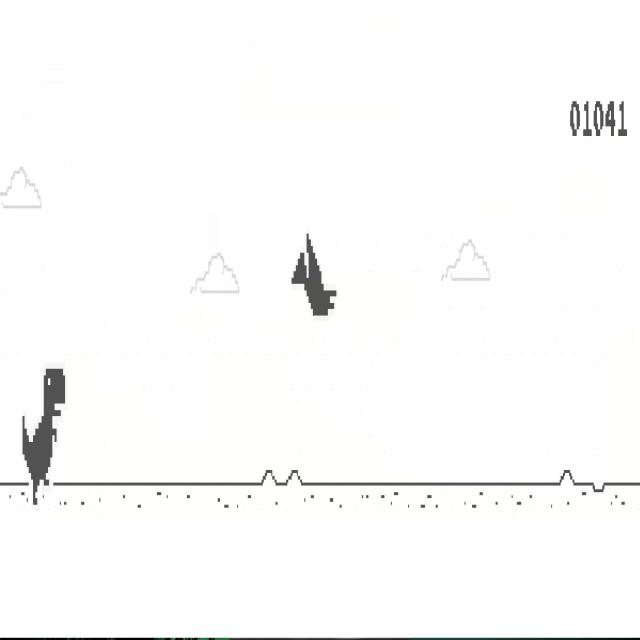dino: (23, 368, 66, 507)
ptero: (291, 232, 337, 318)
